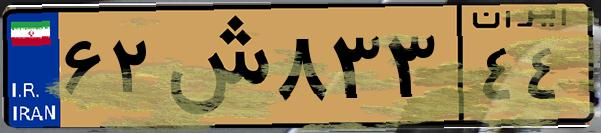2: (110, 28, 158, 98)
3: (385, 28, 445, 110), (330, 28, 385, 110)
4: (475, 38, 525, 113), (525, 38, 570, 115)
6: (57, 26, 110, 100)
8: (270, 28, 330, 110)
ش: (158, 12, 270, 120)
